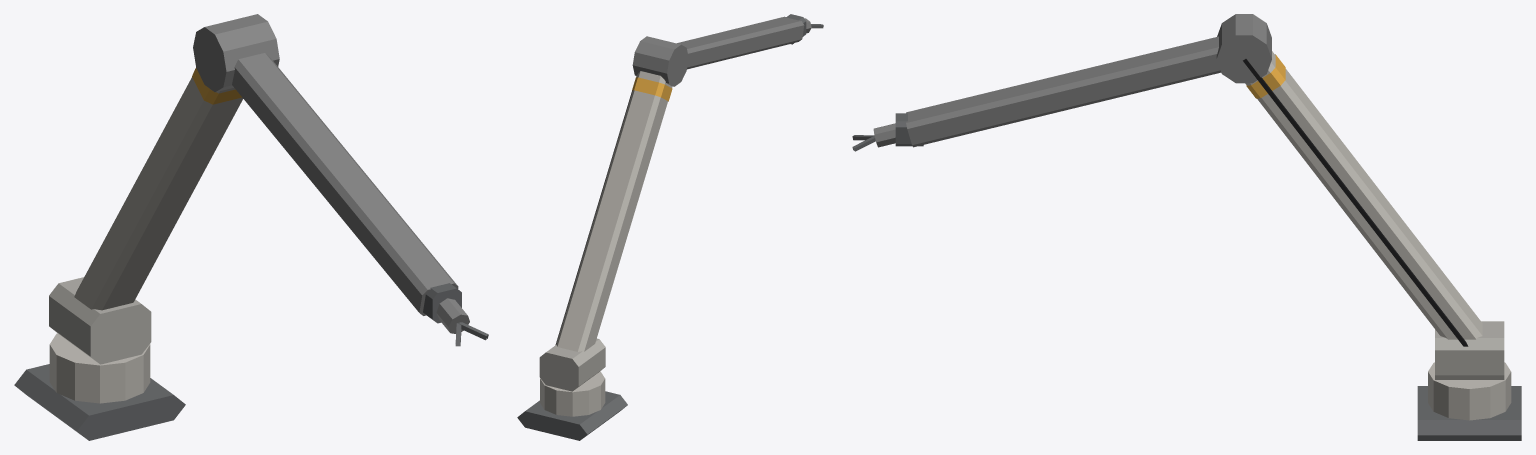
File: manipulator.glb
The picture shows the model from 3 angles, left to right: view 1: azimuth 30°, elevation 25°; view 2: azimuth 150°, elevation 25°; view 3: azimuth 270°, elevation 25°; orthographic projection. The views are drawn at different scales.
Parts seen in each view (by area): view 1: manipulator; view 2: manipulator; view 3: manipulator.
Part boxes in pixels (x1,y1,x2,y2): manipulator: (14,14,488,440); manipulator: (517,14,823,440); manipulator: (852,14,1521,440).
Size of the model in its own units: 9 by 38.13 by 57.93.
